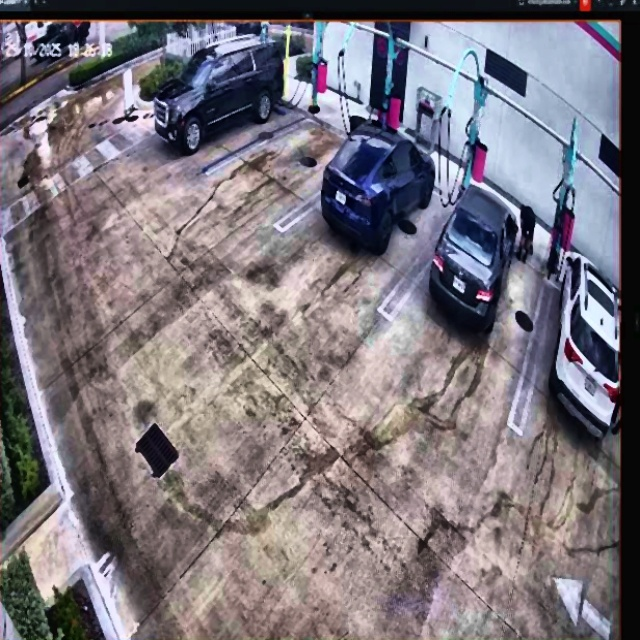Car: (323, 117, 434, 253), (431, 183, 517, 331)
